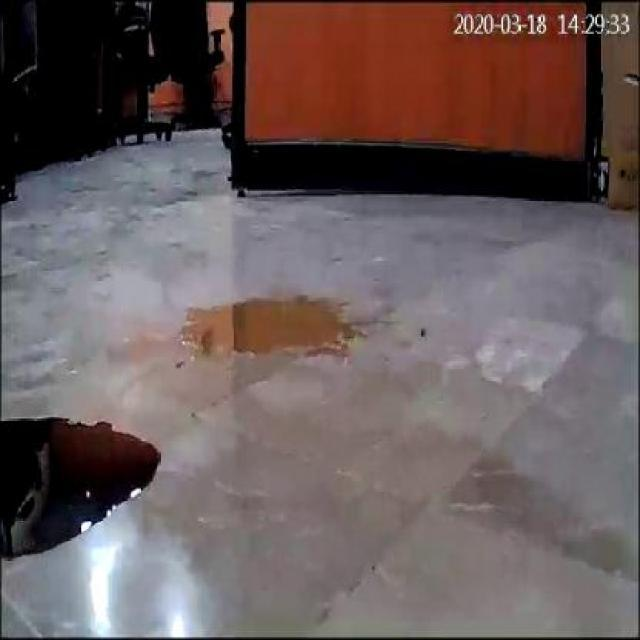spill: (4, 412, 161, 556), (172, 293, 362, 358)
